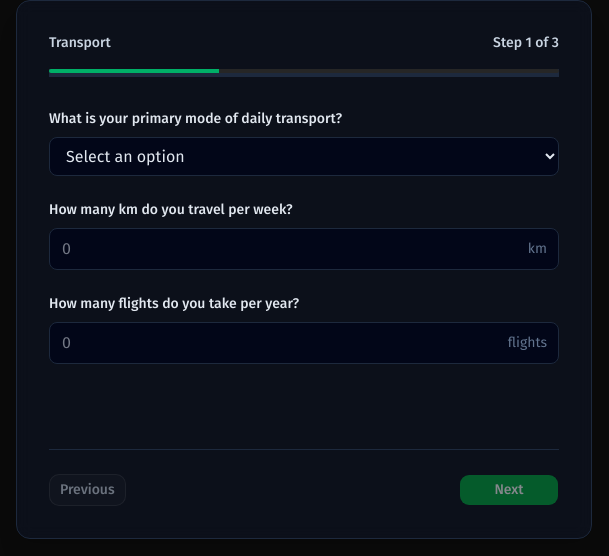
Test: QuizStepper › advances to step 2 on Next click
// Fill step 1
Select "Car Petrol" in the dropdown labelled "What is your primary mode of daily transport?": (304, 156) [49,137,559,176]
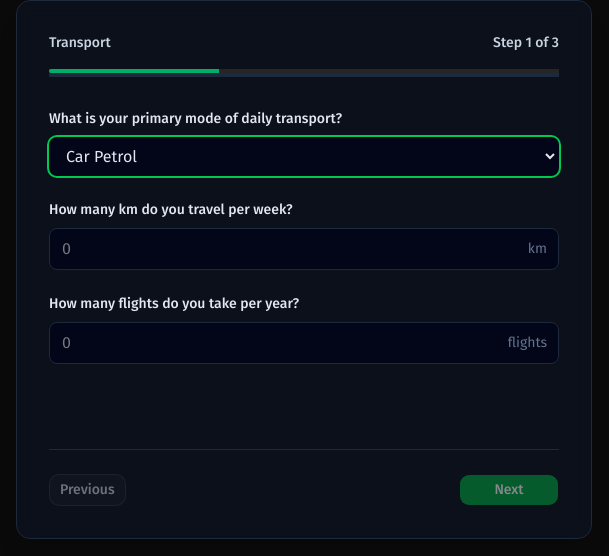
In the number field labelled "How many km do you travel per week?": (304, 249) [49,228,559,270], type "100"
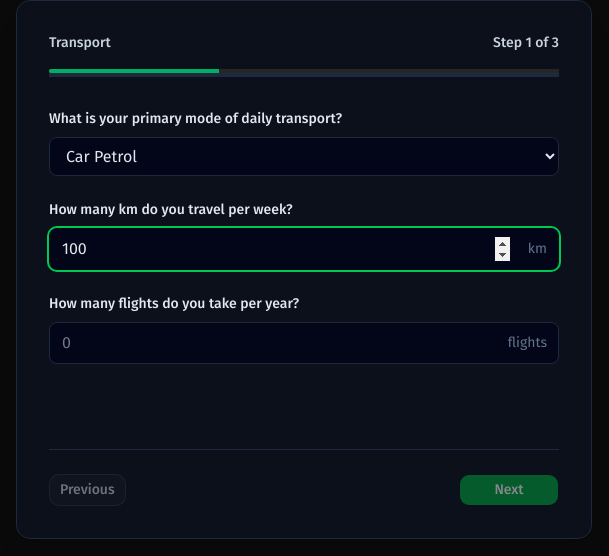
In the number field labelled "How many flights do you take per year?": (304, 343) [49,322,559,364], type "2"
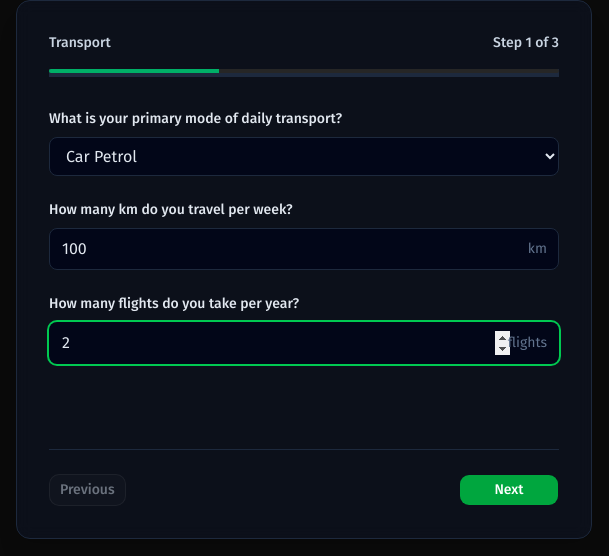
// Click Next
Click the button "Next": (509, 490) [459,474,559,506]
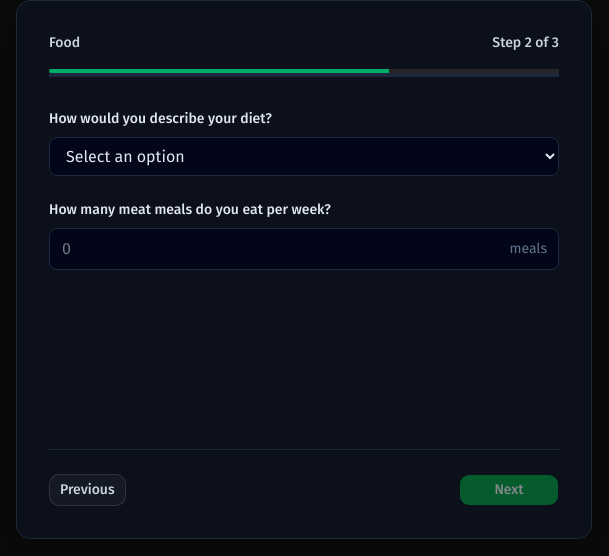
Expected: the text "How would you describe your diet?" is shown, [49,110,272,127]
